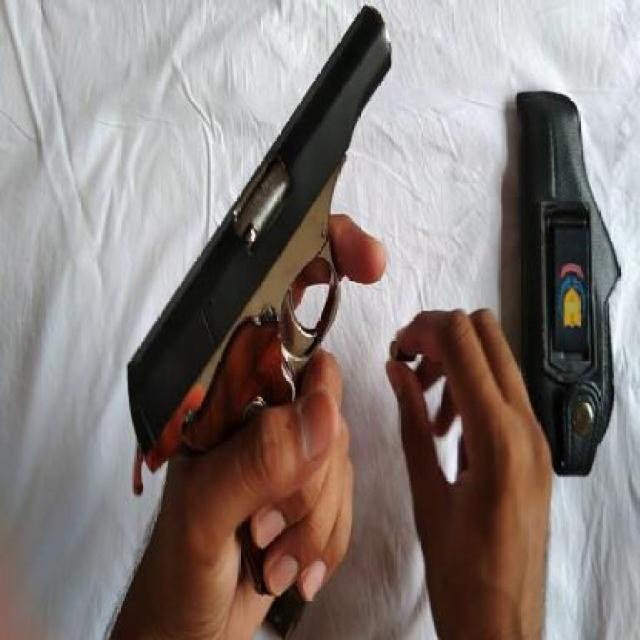gun: (126, 3, 394, 640)
